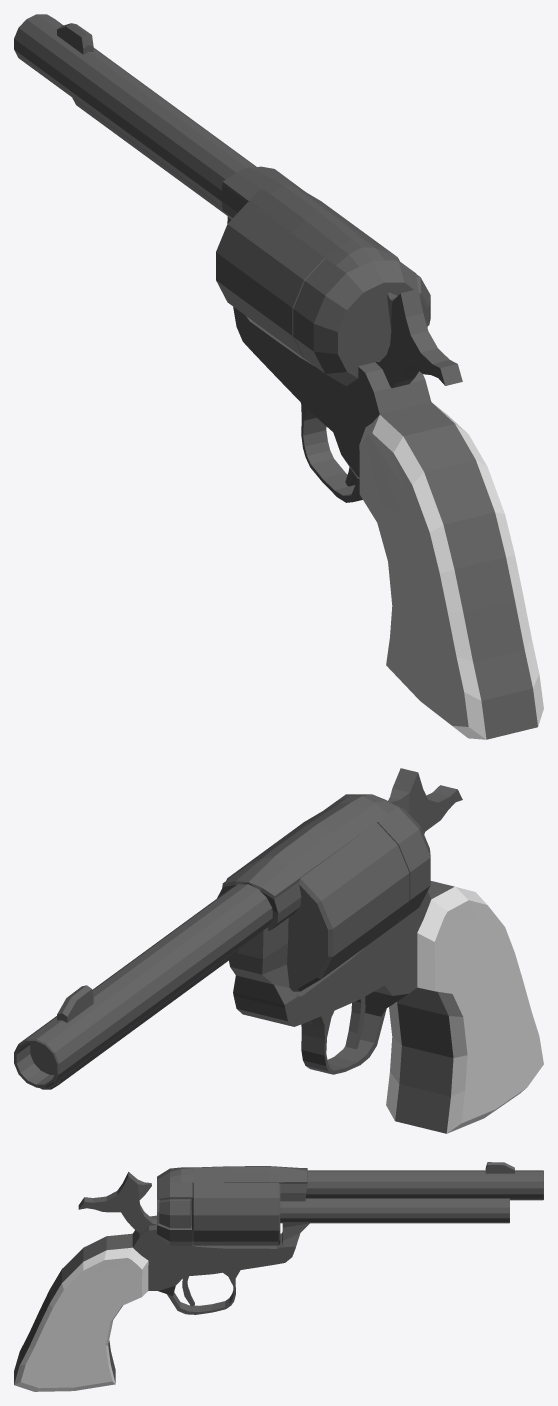
The model's file is Dark_Revolver.fbx.
The picture shows the model from 3 angles, top to bottom: view 1: azimuth 30°, elevation 25°; view 2: azimuth 150°, elevation 25°; view 3: azimuth 270°, elevation 25°; orthographic projection. The views are drawn at different scales.
Visible parts, largest first — view 1: Frame1, Grip, Frame2, Barrel, Chamber, Trekker; view 2: Frame1, Grip, Barrel, Chamber, Frame2, Trekker, Bullet_Enjector, Sight; view 3: Grip, Frame1, Barrel, Bullet_Enjector, Chamber, Frame2, Trekker, Bullet_Door, Sight.
Boxes of the visible parts, box(x1,y1,x2,y2) form: Frame1: box(227, 217, 537, 739); Grip: box(359, 403, 543, 739); Frame2: box(221, 166, 427, 386); Barrel: box(14, 14, 256, 206); Chamber: box(216, 193, 399, 358); Trekker: box(375, 289, 462, 388); Frame1: box(229, 881, 454, 1133); Grip: box(386, 886, 543, 1133); Barrel: box(14, 884, 272, 1087); Chamber: box(217, 810, 409, 991); Frame2: box(221, 794, 430, 930); Trekker: box(388, 768, 462, 834); Bullet_Enjector: box(40, 948, 239, 1089); Sight: box(57, 985, 93, 1022); Grip: box(14, 1247, 148, 1391); Frame1: box(14, 1215, 309, 1384); Barrel: box(306, 1170, 543, 1200); Bullet_Enjector: box(280, 1198, 509, 1223); Chamber: box(192, 1182, 280, 1245); Frame2: box(157, 1166, 307, 1245); Trekker: box(78, 1172, 156, 1232); Bullet_Door: box(159, 1199, 191, 1228); Sight: box(485, 1162, 514, 1173).
Bounding box in the file's own units: 45.17 × 148 × 318.
Materials: 1 (1 with a texture image).
